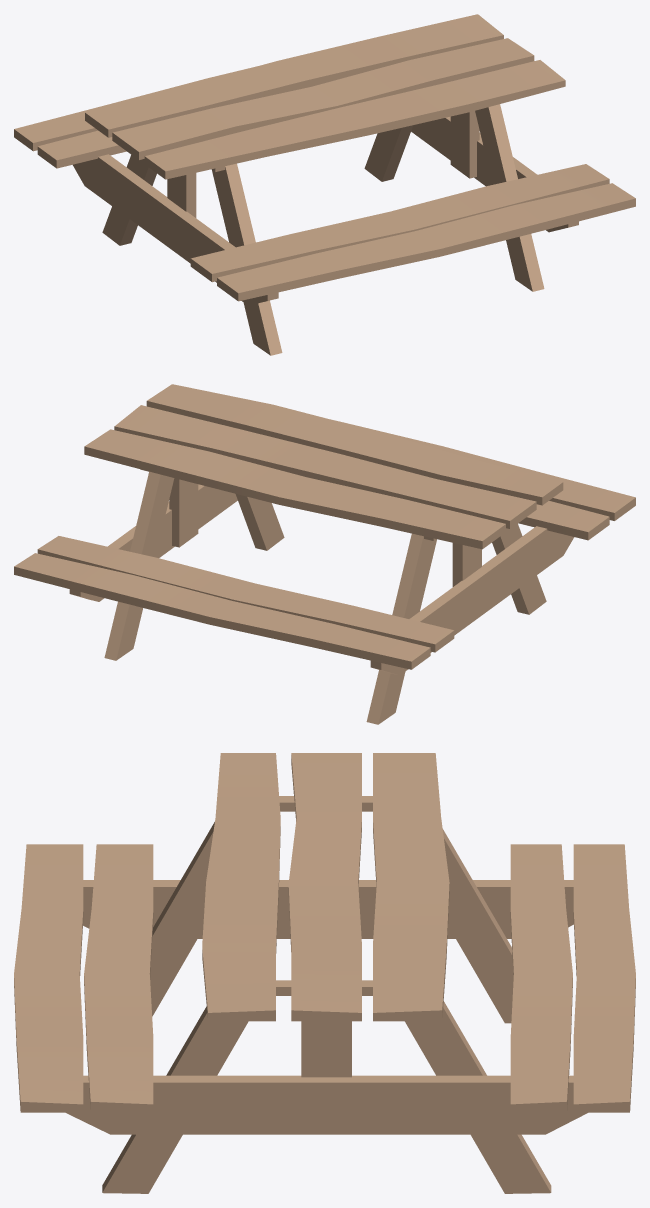
Rendered from Picnic_Table.glb.
3 renders of one model, top to bottom at view 1: azimuth 30°, elevation 25°; view 2: azimuth 150°, elevation 25°; view 3: azimuth 270°, elevation 25°, orthographic. The views are drawn at different scales.
Visible parts, largest first — view 1: Bench; view 2: Bench; view 3: Bench.
Part boxes in pixels (x1,y1,x2,y2): Bench: [14, 14, 635, 355]; Bench: [14, 384, 635, 724]; Bench: [14, 753, 635, 1193].
Size of the model in its own units: 2.17 by 0.8766 by 2.21.
